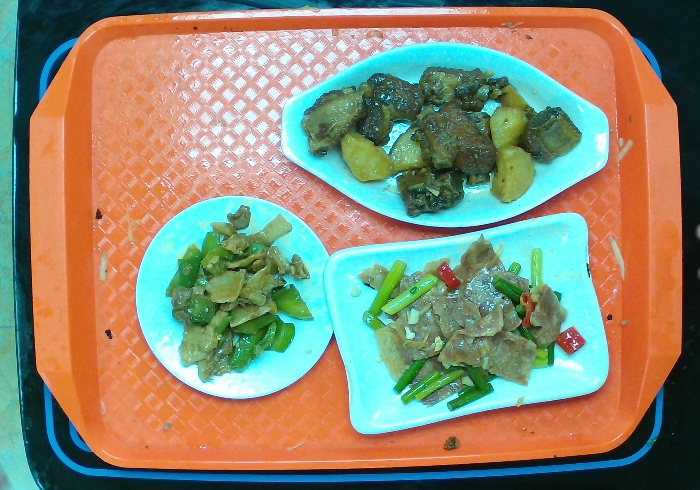RJxy-Si_Fang_Ao_Bian_Wan: (320, 209, 615, 438)
RJxy-Xiao_Yuan_Die: (131, 192, 341, 407)
RJxy-Yu_Pan: (275, 40, 614, 235)
